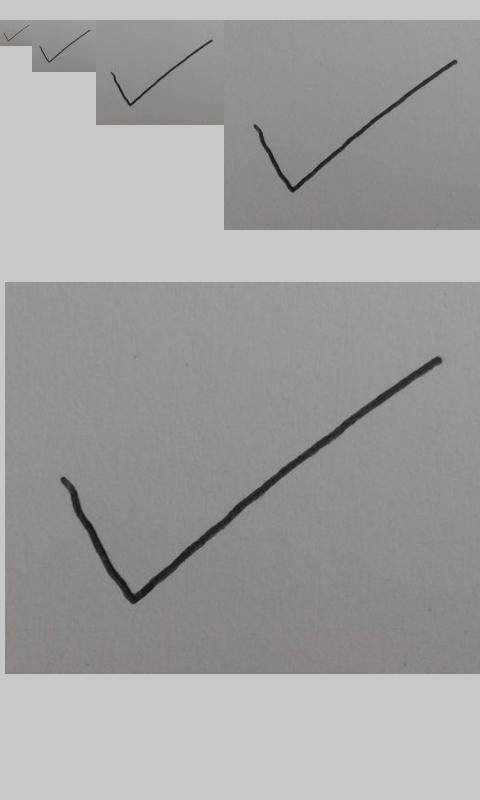check_box: (59, 356, 442, 603), (254, 59, 457, 193), (111, 40, 212, 106), (39, 30, 90, 63), (4, 25, 29, 42)
